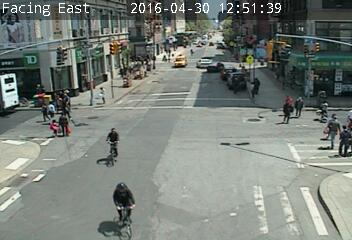neg: (99, 180, 142, 237), (95, 122, 128, 166), (199, 162, 219, 189), (248, 175, 265, 198), (212, 114, 228, 135), (1, 98, 16, 119), (188, 100, 203, 119), (251, 9, 266, 28), (219, 9, 234, 28), (165, 112, 177, 128), (2, 129, 14, 144), (287, 21, 299, 36), (318, 29, 329, 44), (100, 44, 110, 57), (154, 64, 163, 76), (170, 85, 178, 96), (130, 73, 138, 83), (23, 141, 30, 151), (125, 57, 132, 67), (42, 43, 49, 52), (69, 35, 76, 44), (22, 162, 28, 171), (151, 17, 157, 25), (41, 166, 47, 174), (203, 57, 209, 64), (305, 69, 310, 77), (206, 27, 211, 34), (178, 13, 183, 19), (22, 177, 27, 183), (334, 66, 337, 70)
pos: (320, 111, 346, 145), (332, 122, 351, 153), (53, 112, 73, 139), (279, 100, 299, 126), (55, 90, 73, 115), (289, 90, 305, 112), (95, 83, 111, 103), (283, 93, 298, 113), (317, 99, 332, 119), (247, 75, 262, 95), (46, 117, 60, 136), (44, 97, 58, 115), (37, 103, 50, 122), (230, 77, 243, 94), (34, 80, 44, 93), (188, 46, 194, 54)
